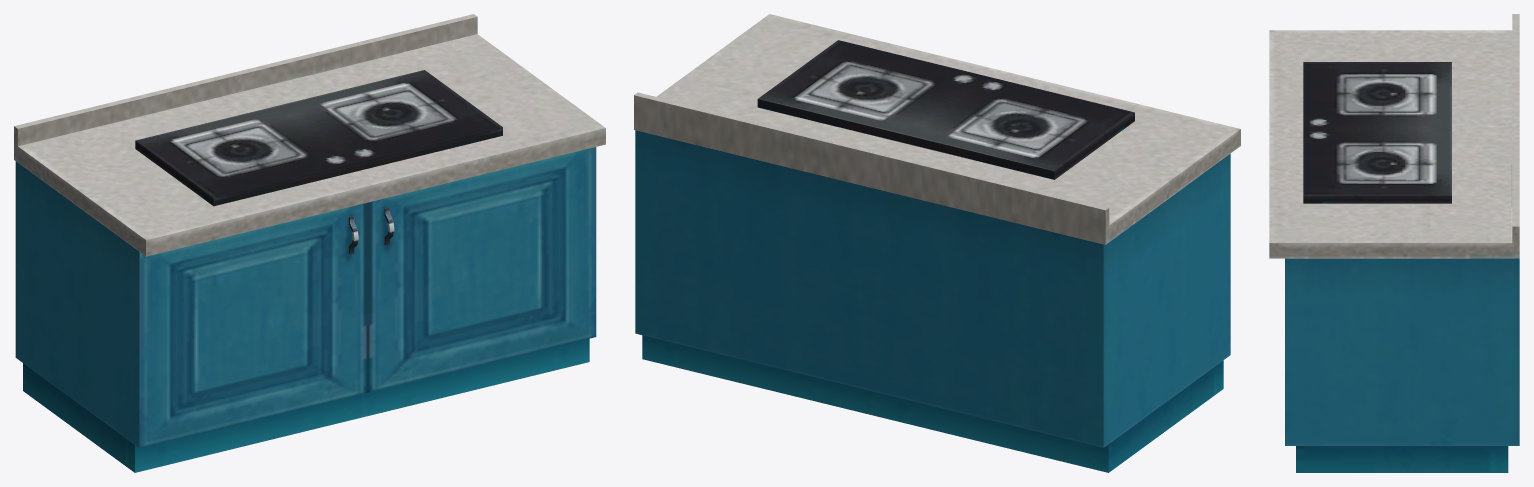
File: furni_0200053_03.FBX
3 views of the same model, side by side, from view 1: azimuth 30°, elevation 25°; view 2: azimuth 150°, elevation 25°; view 3: azimuth 270°, elevation 25° (orthographic). The views are drawn at different scales.
Visible parts, largest first — view 1: furni_0200053; view 2: furni_0200053; view 3: furni_0200053.
Part boxes in pixels (x1,y1,x2,y2): furni_0200053: (14, 14, 605, 472); furni_0200053: (634, 14, 1240, 472); furni_0200053: (1269, 14, 1519, 472).
Bounding box in the file's own units: 159 × 86.03 × 78.87.
1 material, 1 textured.
